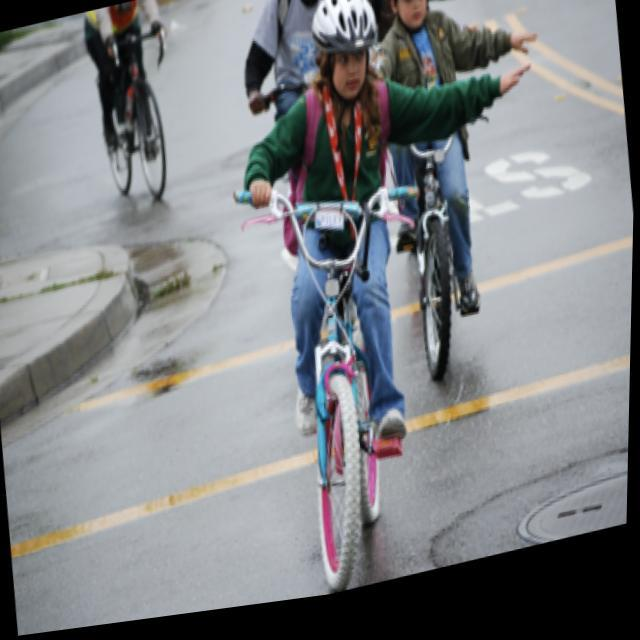Helmet: (305, 0, 380, 120)
